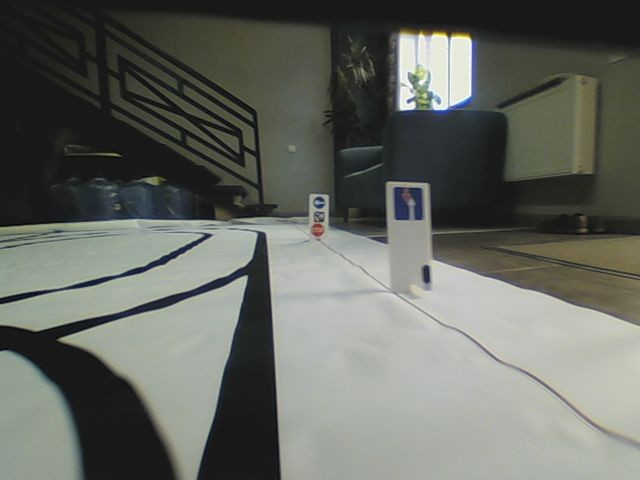priority_movement: (391, 184, 427, 224)
